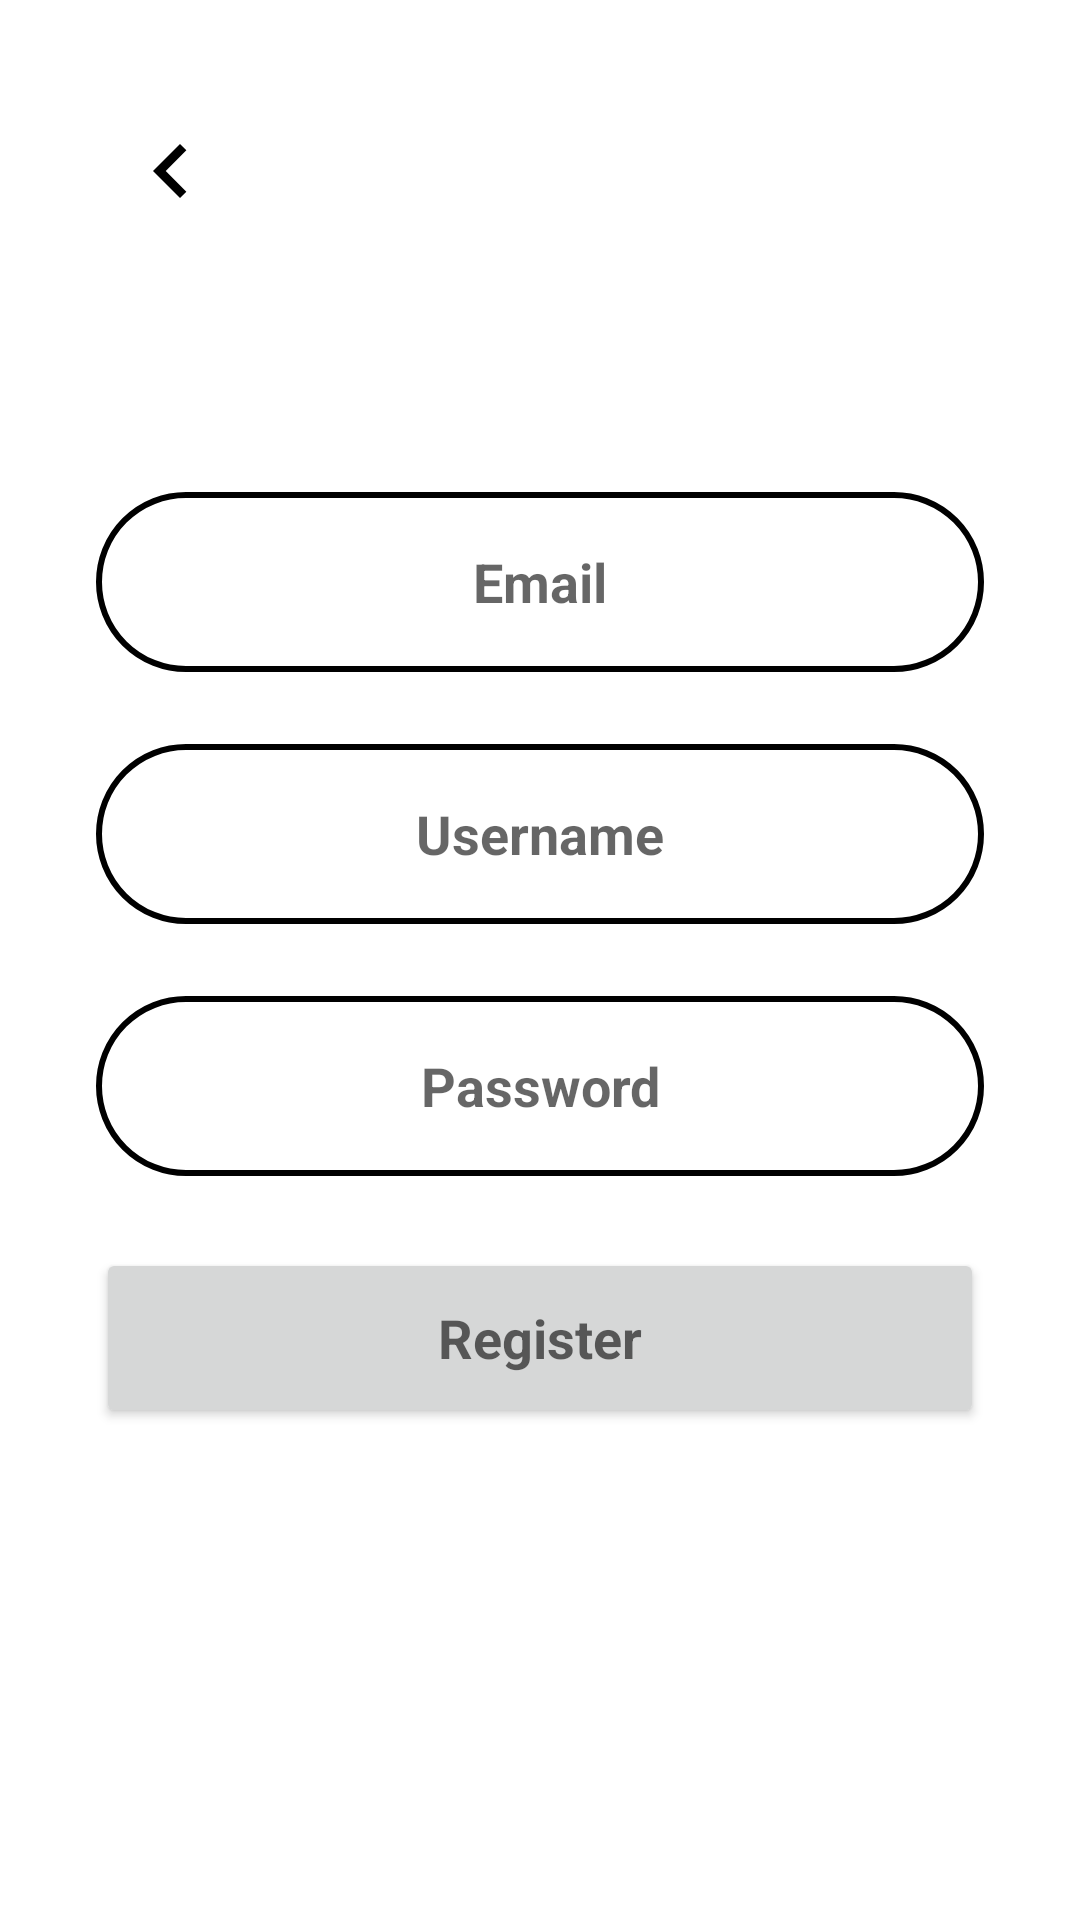

Icon click points for this 1080px×1920px phone screenshot, format [x,y]:
Backward: [170,171]
